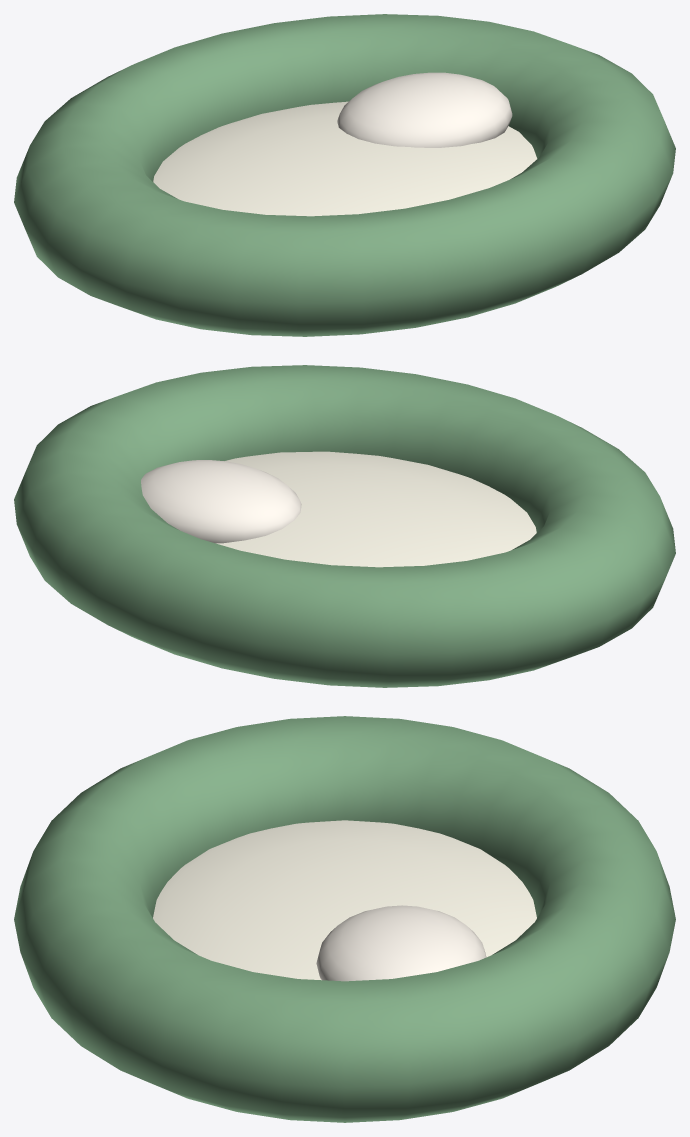
Rendered from bed-green.glb.
The picture shows the model from 3 angles, top to bottom: view 1: azimuth 30°, elevation 25°; view 2: azimuth 150°, elevation 25°; view 3: azimuth 270°, elevation 25°; orthographic projection. The views are drawn at different scales.
Visible parts, largest first — view 1: Soft bed rim, Pet bed cushion, Little pillow; view 2: Soft bed rim, Pet bed cushion, Little pillow; view 3: Soft bed rim, Pet bed cushion, Little pillow.
Boxes of the visible parts, x1=… form: Soft bed rim: x1=14, y1=14, x2=675, y2=336; Pet bed cushion: x1=153, y1=101, x2=537, y2=216; Little pillow: x1=337, y1=72, x2=512, y2=147; Soft bed rim: x1=14, y1=365, x2=675, y2=687; Pet bed cushion: x1=216, y1=451, x2=536, y2=567; Little pillow: x1=141, y1=460, x2=301, y2=543; Soft bed rim: x1=14, y1=716, x2=675, y2=1122; Pet bed cushion: x1=153, y1=820, x2=536, y2=980; Little pillow: x1=316, y1=905, x2=486, y2=981.
Bounding box in the file's own units: 1.94 × 0.4417 × 1.62.
